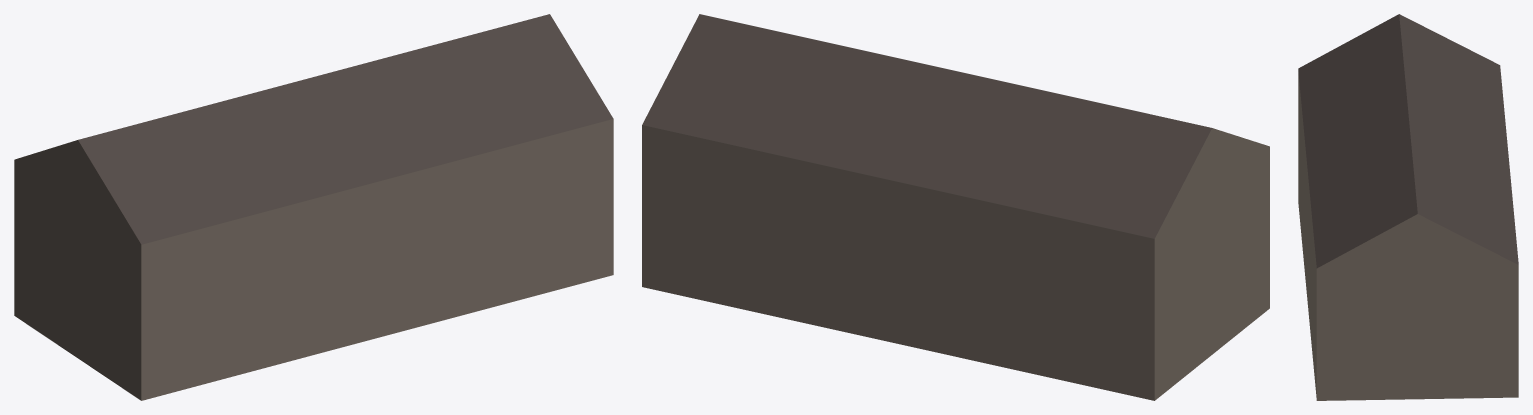
The picture shows the model from 3 angles, left to right: view 1: azimuth 30°, elevation 25°; view 2: azimuth 150°, elevation 25°; view 3: azimuth 270°, elevation 25°; orthographic projection. The views are drawn at different scales.
Parts seen in each view (by area): view 1: HP-w858807432; view 2: HP-w858807432; view 3: HP-w858807432.
Boxes of the visible parts, bbox=[...] form: HP-w858807432: bbox=[14, 14, 613, 400]; HP-w858807432: bbox=[642, 14, 1269, 400]; HP-w858807432: bbox=[1298, 14, 1518, 400].
Bounding box in the file's own units: 19.75 × 8.4 × 9.06.
